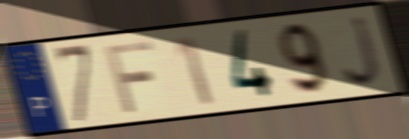1: (173, 33, 217, 108)
4: (230, 26, 276, 102)
7: (53, 43, 97, 126)
9: (273, 20, 332, 98)
F: (102, 38, 157, 116)
J: (341, 13, 385, 90)
